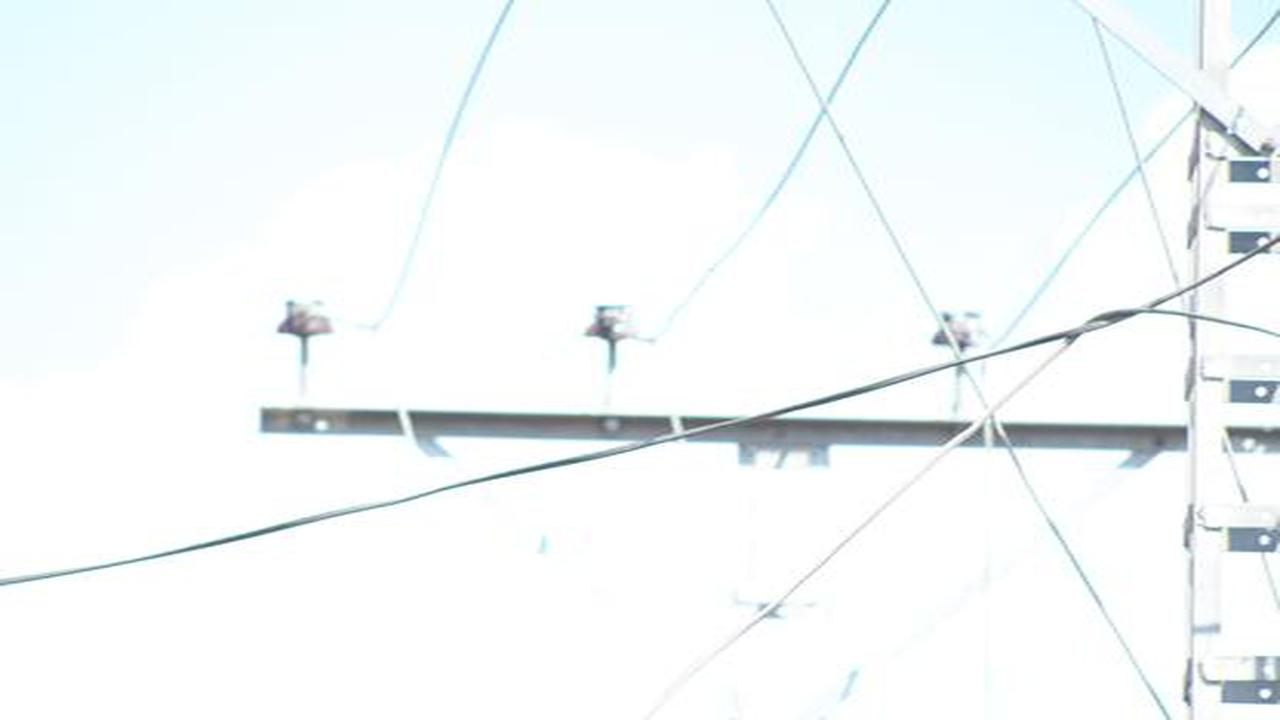insulator_pin: (923, 303, 1001, 353), (274, 296, 341, 343), (583, 297, 647, 346)
